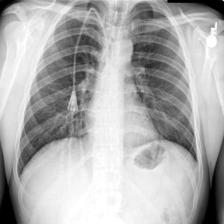normal: (10, 1, 208, 183)
